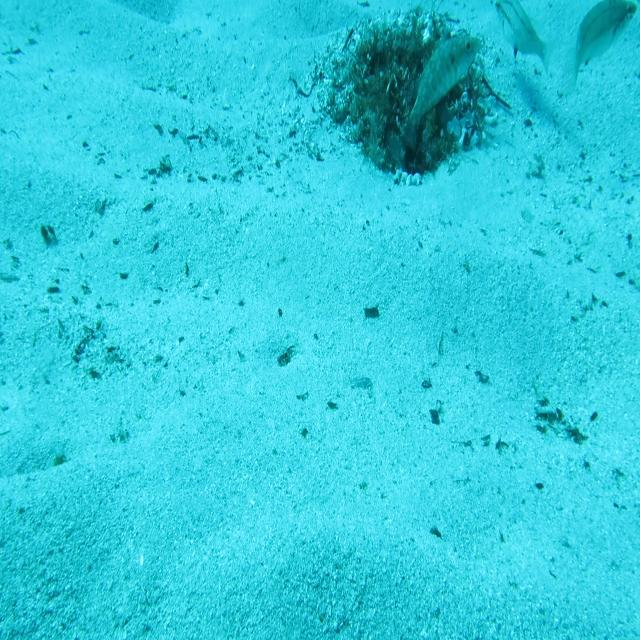LF: (399, 34, 482, 154)
core_nest: (387, 30, 438, 72)
female: (560, 0, 638, 99), (496, 0, 558, 78)
nest: (308, 4, 501, 191)
vegetation: (40, 220, 61, 250), (273, 348, 299, 366), (361, 302, 383, 321)
